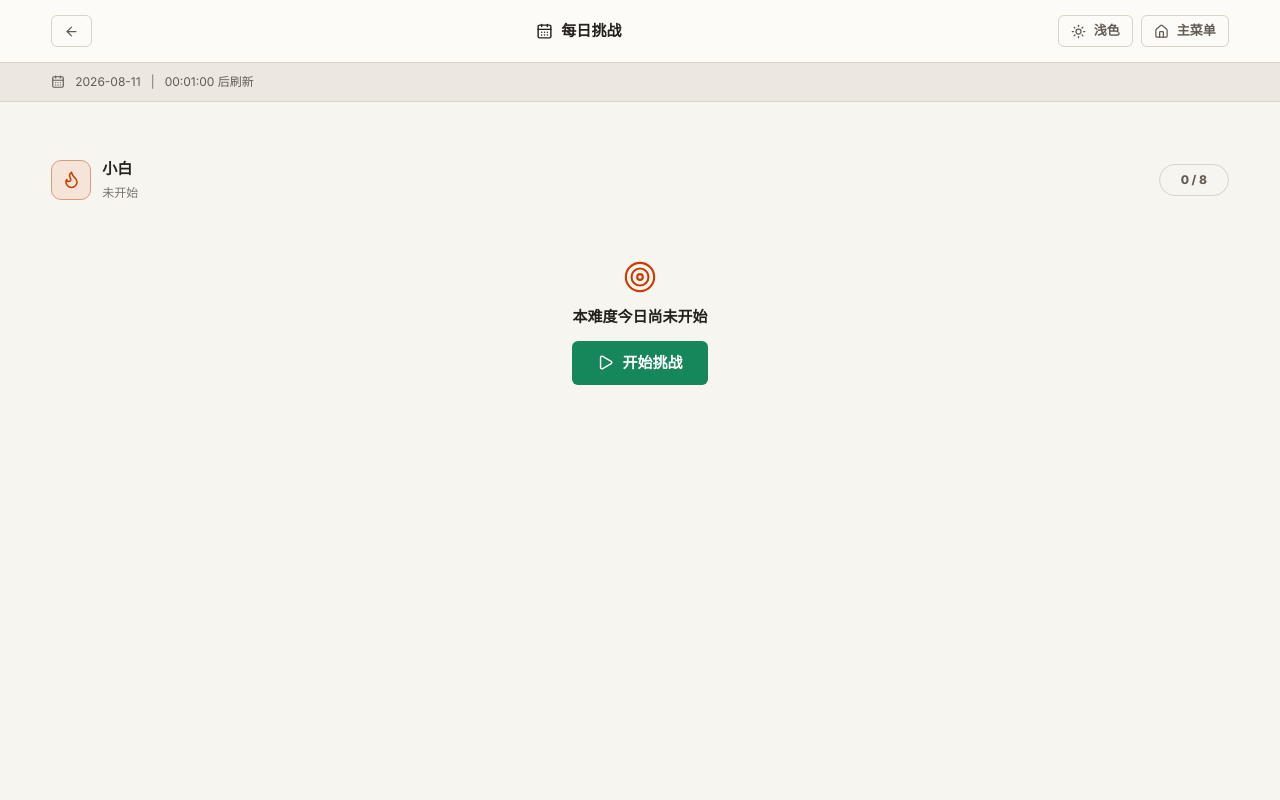
Scenario: DailyChallenge › starts the daily game selected by the route
The image size is (1280, 800).
Expected: the text "每日挑战" is shown, [536,20,622,42]
Expected: the heading "小白" is shown, [102,159,132,178]
Click the button "开始挑战".
click(640, 363)  # box [572,341,708,385]
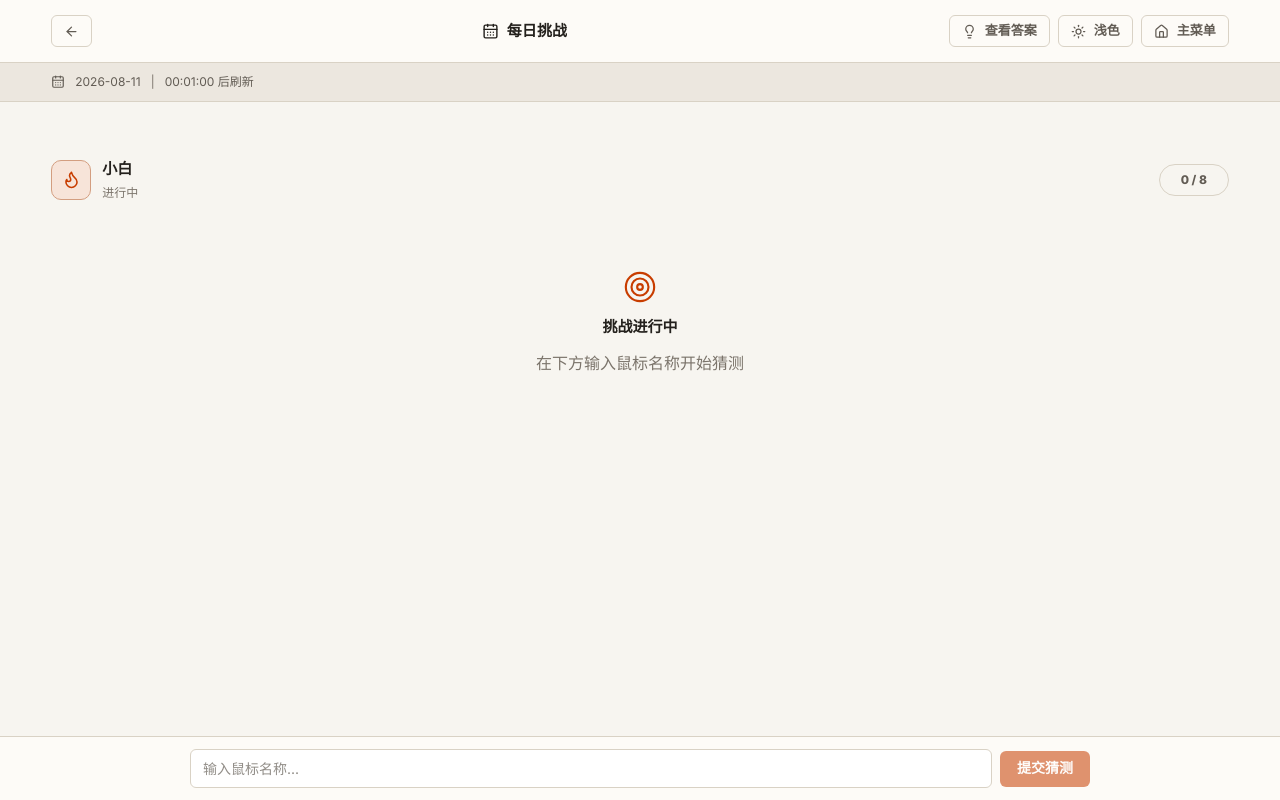
Expected: the dropdown with placeholder "输入鼠标名称..." is enabled, [190,749,992,788]
